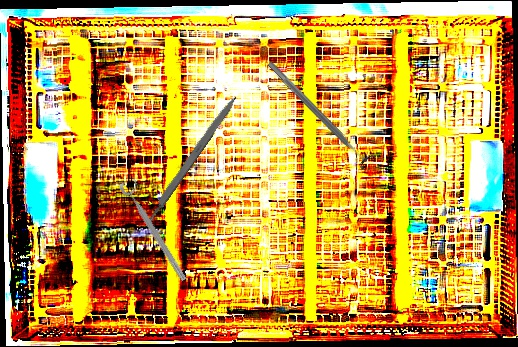Fixation Ring: (261, 55, 378, 171), (117, 175, 196, 284)
Scalpel Handle: (144, 93, 239, 223)
